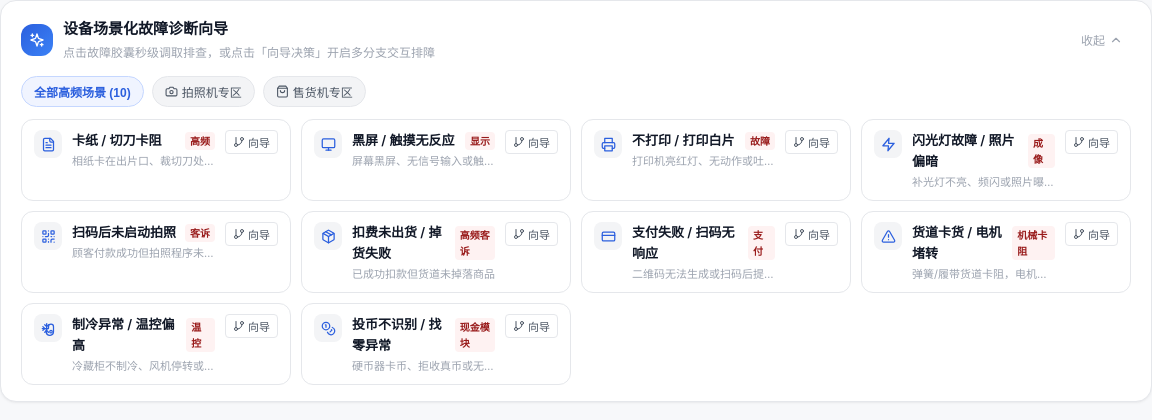
Test: Tier 1 & 2 Component: Diagnostic Guide Decision Tree (F-06 / F-07) › T1-TREE-02: tab switching filters Photo Booth zone scenarios
Click the button "拍照机专区": coordinates (203, 92) [152,76,255,107]
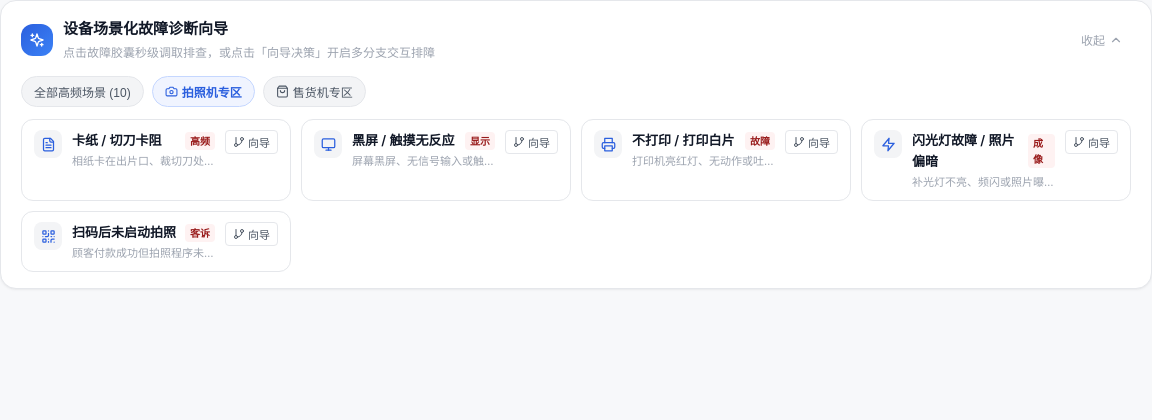
Check: the text "卡纸 / 切刀卡阻" is shown, box [72,130,162,151]
Check: the button "扣费未出货 / 掉货失败" is gone
Check: the button "制冷异常 / 温控偏高" is gone
